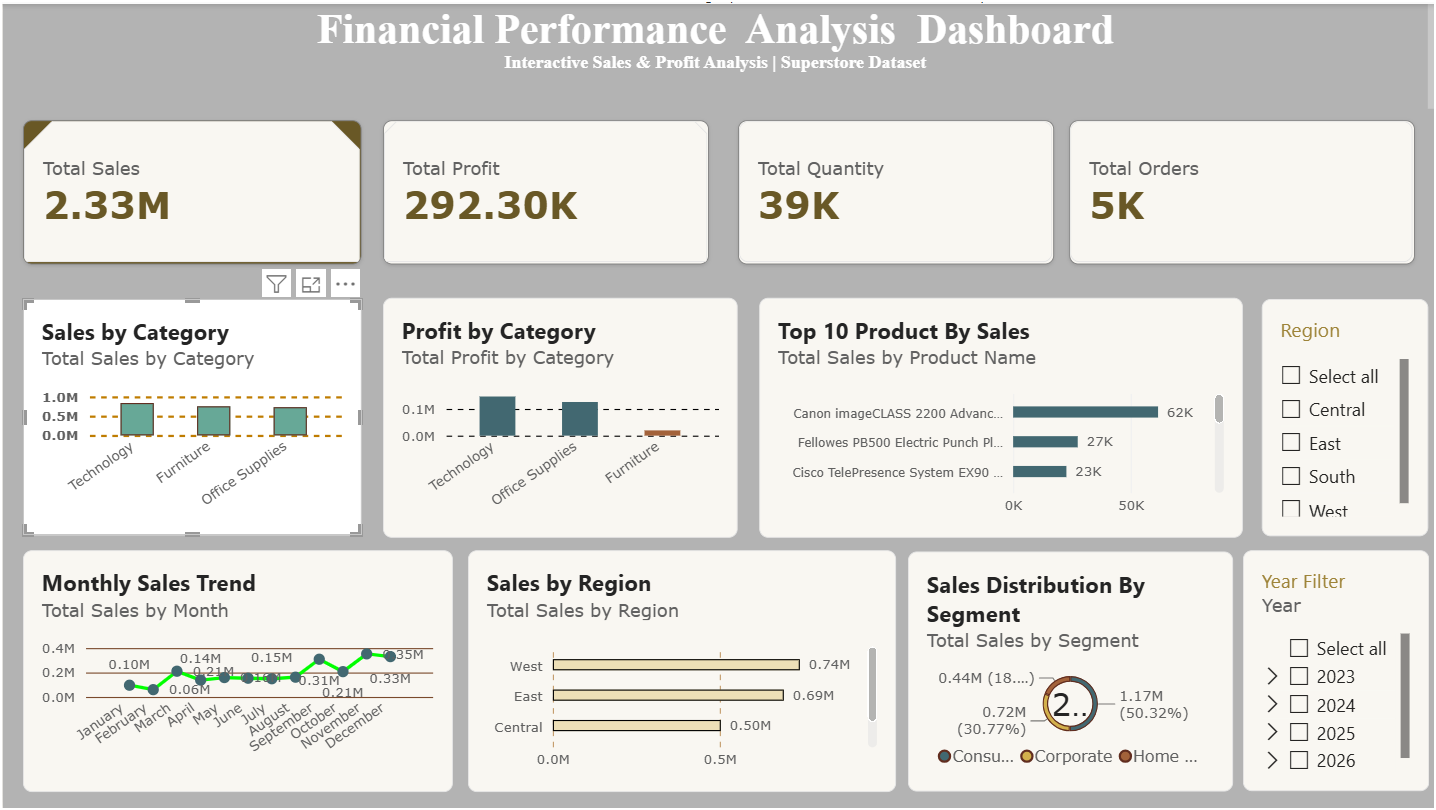

The dashboard page shown, as its layout file describes it:
{"tool":"powerbi","page":{"name":"Page 1","canvas":[1280,720],"ordinal":0},"visuals":[{"type":"textbox","box":[0,0,1280.5,150.7],"z":0},{"type":"cardVisual","fields":{"Data":["Orders.Total Sales"]},"box":[17.5,103.8,302.5,128.8],"z":1000},{"type":"cardVisual","fields":{"Data":["Orders.Total Profit"]},"box":[340,103.8,291.2,128.8],"z":2000},{"type":"cardVisual","fields":{"Data":["Orders.Total Quantity"]},"box":[656.1,103.9,282.4,128.8],"z":3000},{"type":"cardVisual","fields":{"Data":["Orders.Total Orders"]},"box":[953,104.1,308.9,128.8],"z":4000},{"type":"clusteredColumnChart","title":" Sales by Category","fields":{"Category":["Orders.Category"],"Y":["Orders.Total Sales"]},"box":[17.5,263.8,383.8,211.2],"z":5000},{"type":"clusteredColumnChart","title":"Profit  by Category","fields":{"Category":["Orders.Category"],"Y":["Orders.Total Profit"]},"box":[416.2,262.5,381.2,213.8],"z":6000},{"type":"lineChart","title":"Monthly Sales Trend","fields":{"Category":["Orders.Order Date.Variation.Date Hierarchy.Year","Orders.Order Date.Variation.Date Hierarchy.Month"],"Y":["Orders.Total Sales"]},"box":[17.5,487.5,383.8,216.2],"z":7000},{"type":"clusteredBarChart","title":"Sales by Region","fields":{"Category":["Orders.Region"],"Y":["Orders.Total Sales"]},"box":[415,487.5,382.5,216.2],"z":8000},{"type":"listSlicer","title":"Year Filter ","fields":{"Values":["Orders.Order Date.Variation.Date Hierarchy.Year","Orders.Order Date.Variation.Date Hierarchy.Quarter","Orders.Order Date.Variation.Date Hierarchy.Month","Orders.Order Date.Variation.Date Hierarchy.Day"]},"box":[1146.2,487.5,127.5,216.2],"z":9000},{"type":"listSlicer","fields":{"Values":["Orders.Region"]},"box":[1145.9,263.4,127.3,212.2],"z":10000},{"type":"clusteredBarChart","title":"Top 10 Product By Sales","fields":{"Category":["Orders.Product Name"],"Y":["Orders.Total Sales"]},"box":[808.8,262.5,326.2,213.8],"z":11000},{"type":"donutChart","title":"Sales Distribution By Segment","fields":{"Category":["Orders.Segment"],"Y":["Orders.Total Sales"]},"box":[808.8,487.5,326.2,216.2],"z":12000}]}

Visuals, with their boxes in screenshot pixels (x1, y1, x2, y2), scaled from the page's 1280x720 canvas onto the 1436x810 screenshot:
textbox: BBox(0, 0, 1435, 170)
cardVisual - Orders.Total Sales: BBox(20, 117, 359, 262)
cardVisual - Orders.Total Profit: BBox(381, 117, 708, 262)
cardVisual - Orders.Total Quantity: BBox(736, 117, 1053, 262)
cardVisual - Orders.Total Orders: BBox(1069, 117, 1416, 262)
" Sales by Category" clusteredColumnChart: BBox(20, 297, 450, 534)
"Profit  by Category" clusteredColumnChart: BBox(467, 295, 895, 536)
"Monthly Sales Trend" lineChart: BBox(20, 548, 450, 792)
"Sales by Region" clusteredBarChart: BBox(466, 548, 895, 792)
"Year Filter " listSlicer: BBox(1286, 548, 1429, 792)
listSlicer - Orders.Region: BBox(1286, 296, 1428, 535)
"Top 10 Product By Sales" clusteredBarChart: BBox(907, 295, 1273, 536)
"Sales Distribution By Segment" donutChart: BBox(907, 548, 1273, 792)
